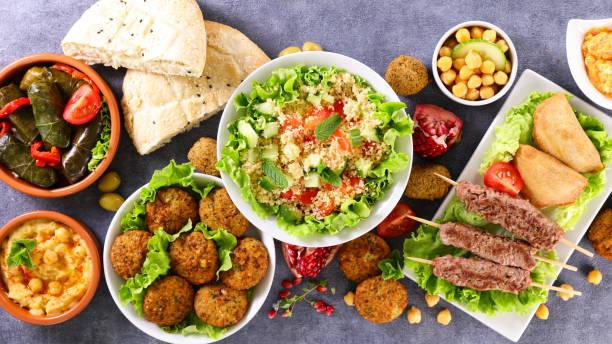Braised Crucian Carp: (378, 53, 611, 343), (214, 49, 407, 247), (102, 170, 271, 343), (1, 53, 121, 196), (0, 209, 102, 325)
